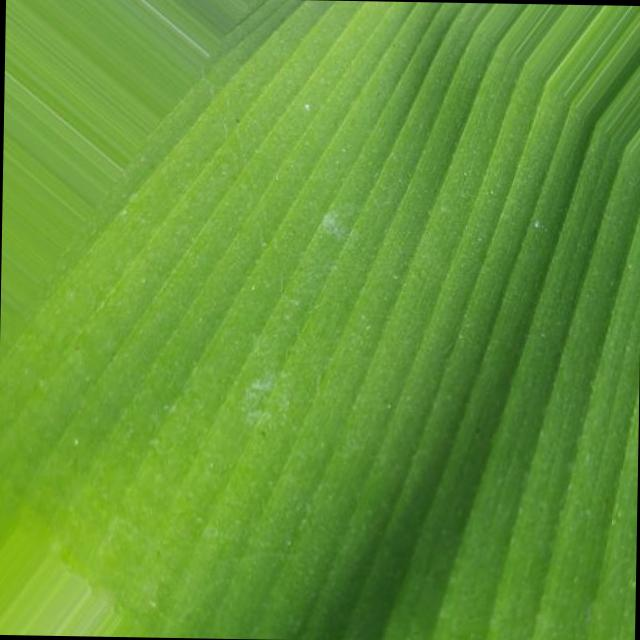Banana_Healthy: (173, 144, 558, 568)
